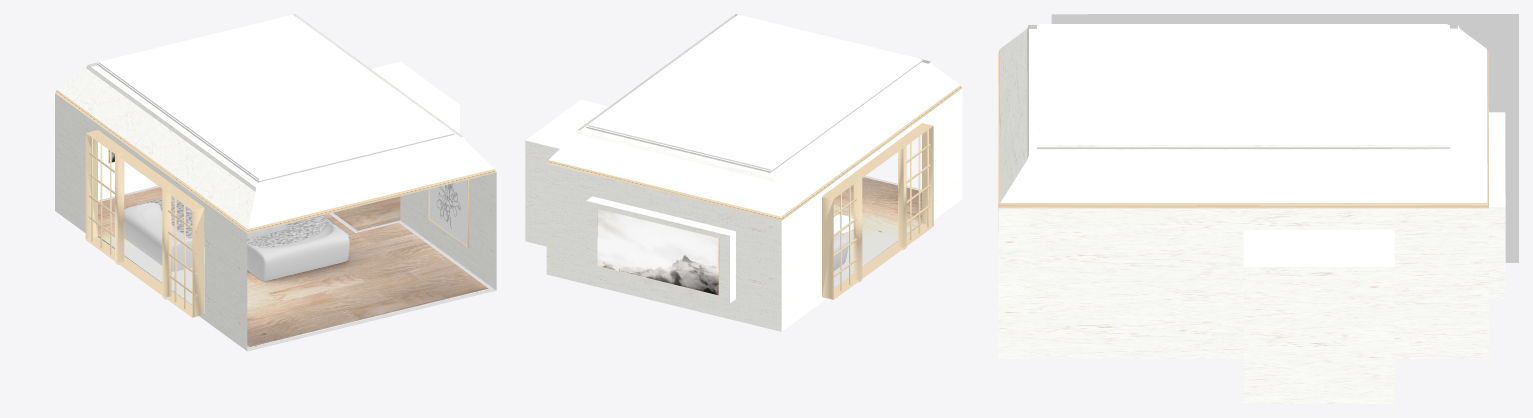
File: living_room.glb
3 renders of one model, left to right at view 1: azimuth 30°, elevation 25°; view 2: azimuth 150°, elevation 25°; view 3: azimuth 270°, elevation 25°, orthographic. The views are drawn at different scales.
Parts seen in each view (by area): view 1: Modern Living Room_Walls_0, Modern Living Room_Planks_0, Modern Living Room_Lights_0, Modern Living Room_Carpet_0, Modern Living Room_Painting_0, Modern Living Room_Floor_0; view 2: Modern Living Room_Walls_0, Modern Living Room_Lights_0, Modern Living Room_TVScreen_0, Modern Living Room_Planks_0; view 3: Modern Living Room_Walls_0, Modern Living Room_Backdrop_0, Modern Living Room_Lights_0.
Boxes of the visible parts, <box> form: Modern Living Room_Walls_0: <box>55,14,496,350</box>; Modern Living Room_Planks_0: <box>98,187,487,346</box>; Modern Living Room_Lights_0: <box>55,63,496,350</box>; Modern Living Room_Carpet_0: <box>136,196,351,247</box>; Modern Living Room_Painting_0: <box>429,180,467,246</box>; Modern Living Room_Floor_0: <box>98,186,496,351</box>; Modern Living Room_Walls_0: <box>525,14,962,331</box>; Modern Living Room_Lights_0: <box>547,60,962,299</box>; Modern Living Room_TVScreen_0: <box>597,209,718,295</box>; Modern Living Room_Planks_0: <box>833,177,921,287</box>; Modern Living Room_Walls_0: <box>998,24,1505,403</box>; Modern Living Room_Backdrop_0: <box>1051,14,1518,262</box>; Modern Living Room_Lights_0: <box>998,49,1505,208</box>.
Size of the model in its own units: 33.02 by 20.06 by 34.49.
Materials: 15 (14 with a texture image).
